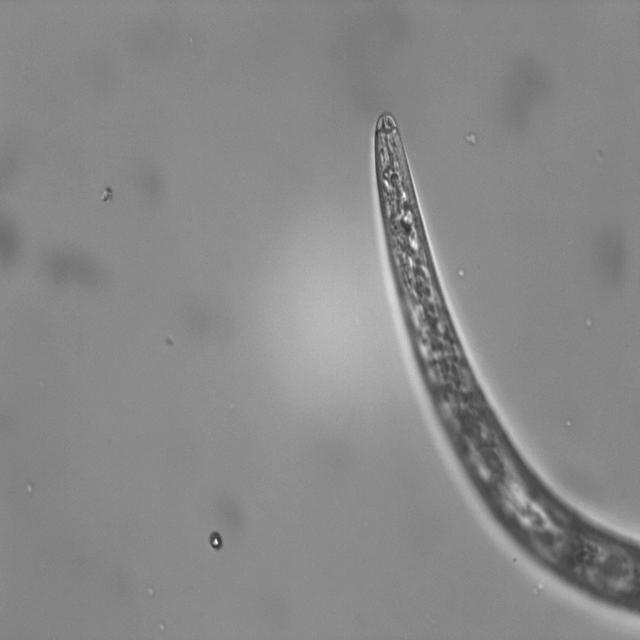Helicotylenchus: (360, 104, 602, 550)
